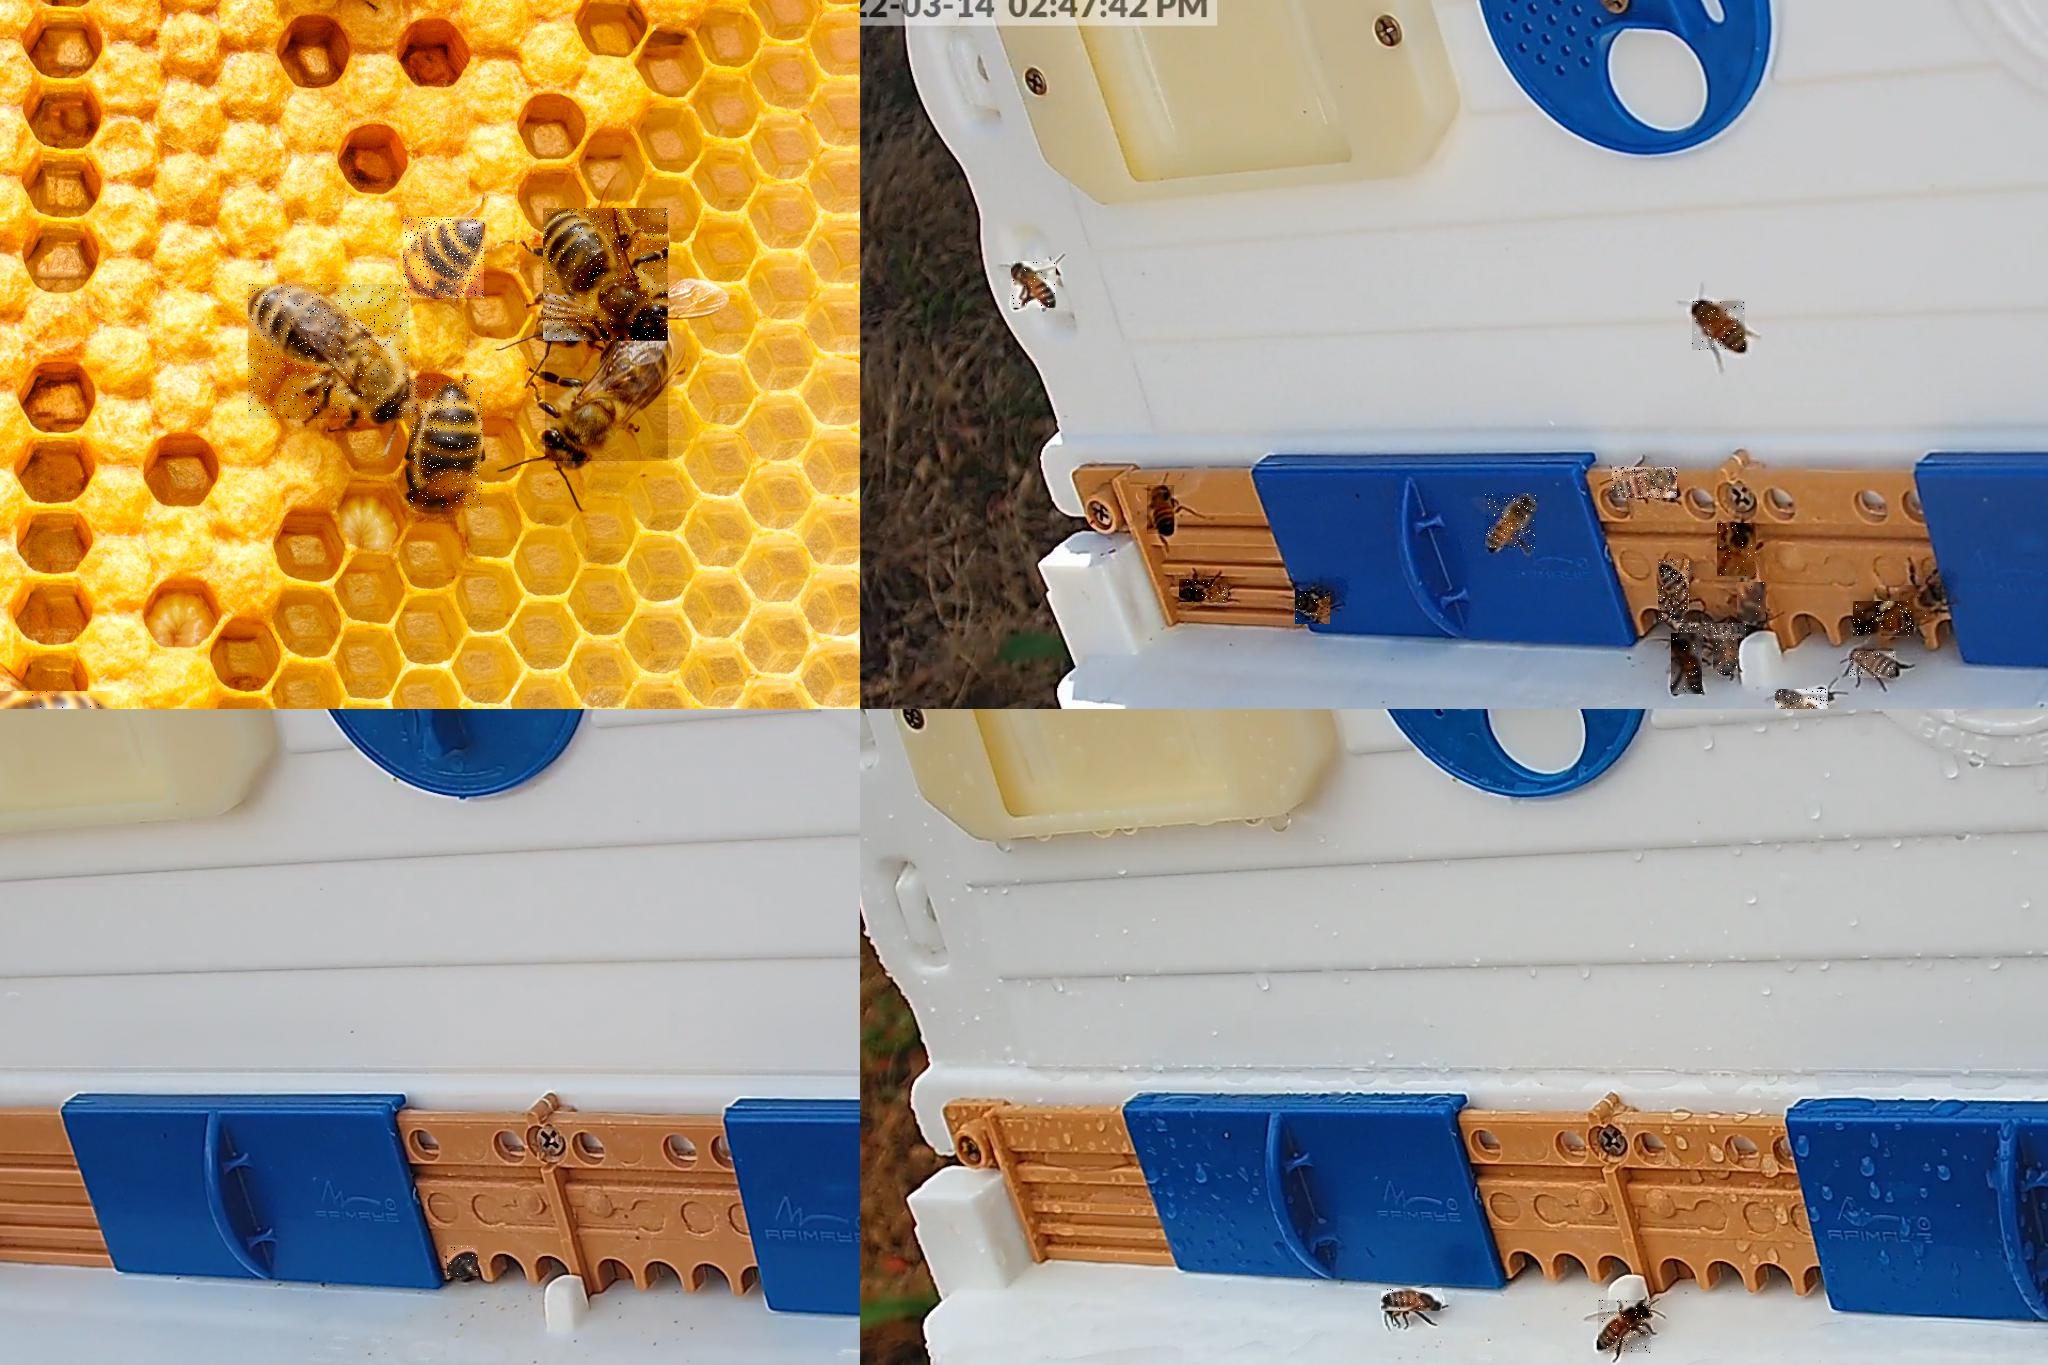bee: (248, 283, 410, 420), (545, 326, 668, 462), (544, 209, 668, 341), (410, 379, 483, 509), (404, 216, 484, 299), (1597, 1299, 1652, 1354), (1485, 494, 1536, 548), (1692, 302, 1747, 350), (1011, 261, 1057, 309), (1718, 523, 1757, 577), (1613, 468, 1678, 500), (1658, 559, 1690, 623), (1670, 632, 1702, 695), (1899, 585, 1943, 622), (1381, 1287, 1443, 1312), (1147, 484, 1176, 535), (1849, 651, 1897, 679), (1179, 579, 1229, 603), (1294, 591, 1331, 625), (1737, 582, 1766, 622), (1774, 689, 1830, 708), (1676, 623, 1747, 638), (1713, 635, 1739, 675), (448, 1245, 480, 1277)
pollenbee: (1853, 602, 1916, 637)
